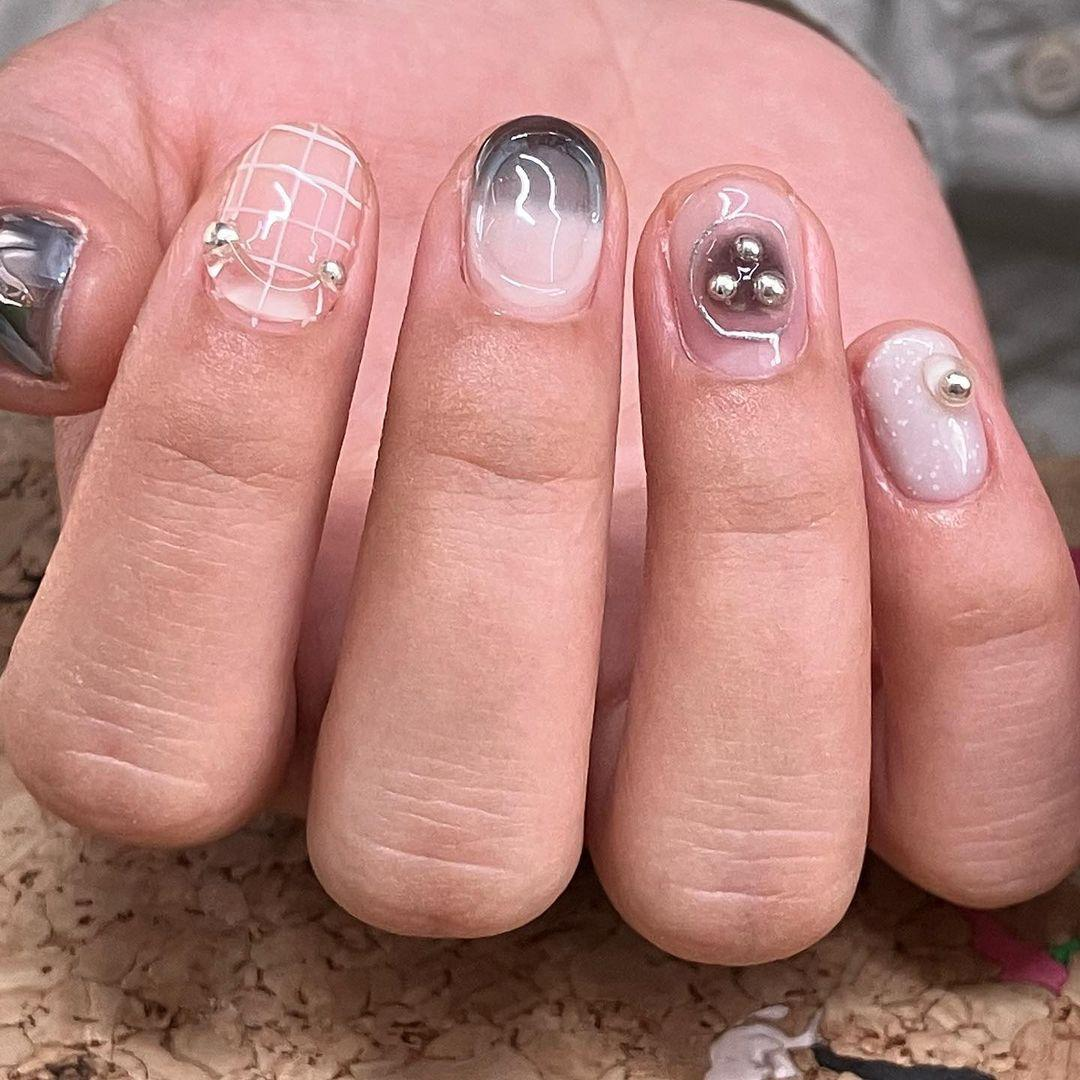nail: (0, 118, 380, 850), (303, 111, 628, 939), (585, 160, 875, 967), (843, 316, 1078, 910), (199, 119, 368, 334), (845, 317, 991, 504)
